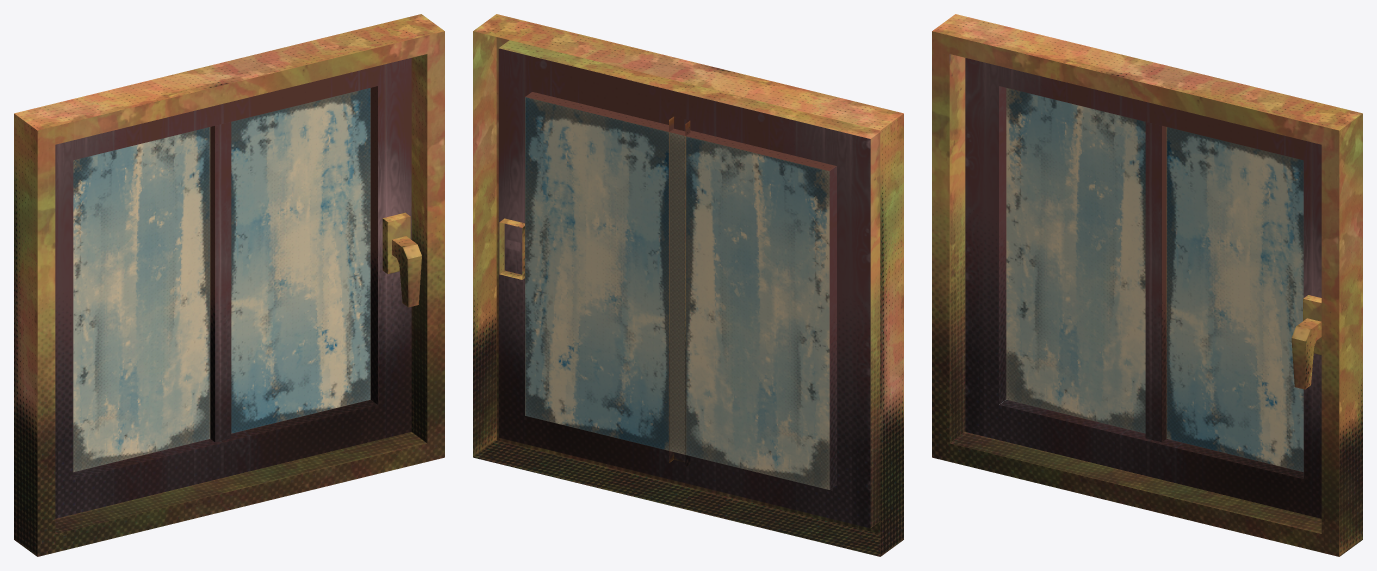
The model's file is Window_big.obj.
3 views of the same model, side by side, from view 1: azimuth 30°, elevation 25°; view 2: azimuth 150°, elevation 25°; view 3: azimuth 330°, elevation 25° (orthographic).
Visible parts, largest first — view 1: Window_Big; view 2: Window_Big; view 3: Window_Big.
Boxes of the visible parts, x1=… form: Window_Big: x1=14, y1=14, x2=444, y2=556; Window_Big: x1=473, y1=14, x2=903, y2=556; Window_Big: x1=932, y1=14, x2=1362, y2=556.
Bounding box in the file's own units: 1.5 × 1.5 × 0.1838.
